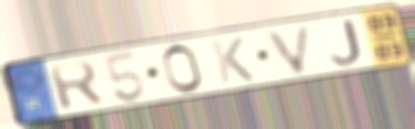0: (160, 42, 206, 94)
5: (102, 49, 146, 104)
J: (328, 18, 365, 66)
K: (208, 34, 258, 86)
R: (45, 59, 107, 112)
V: (262, 21, 314, 77)
